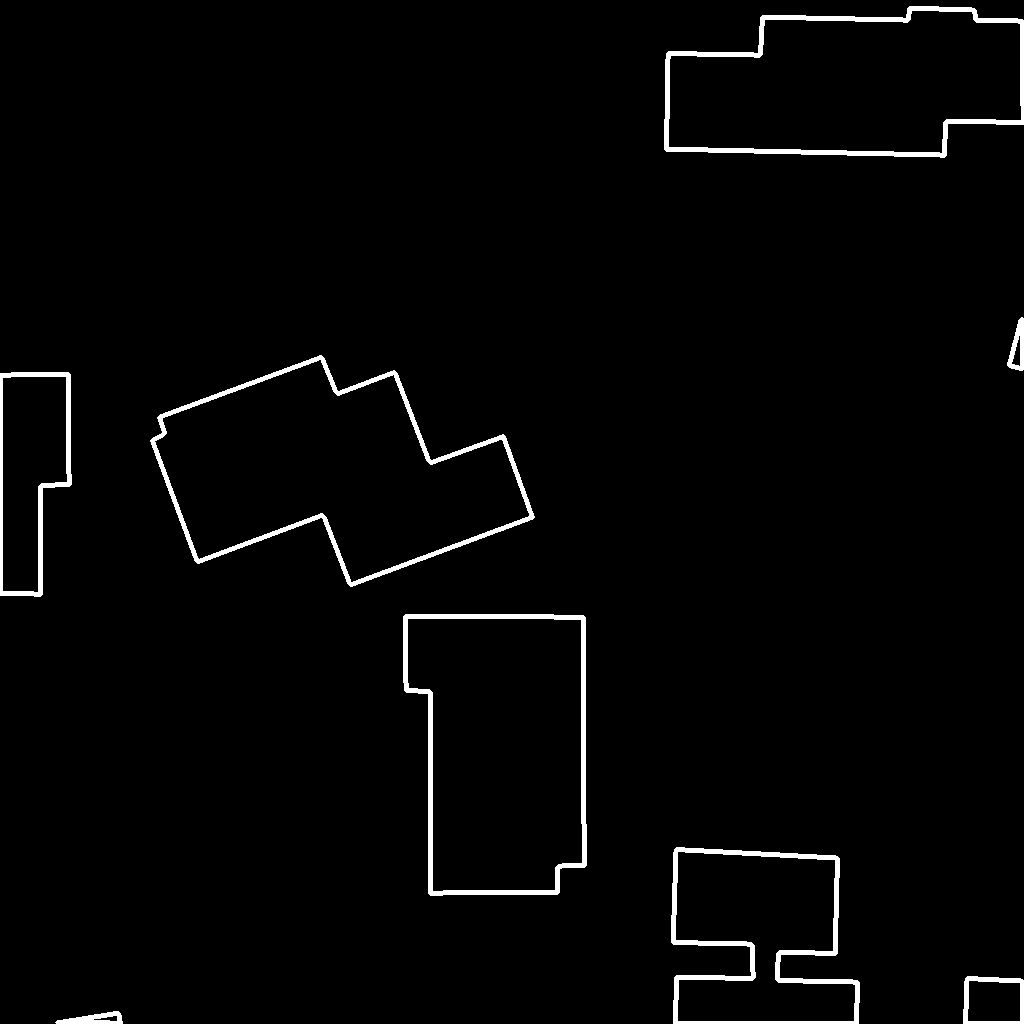building: (152, 357, 534, 586), (666, 8, 1024, 156), (405, 616, 585, 894), (673, 849, 859, 1024), (0, 374, 70, 595), (965, 978, 1024, 1024), (1009, 319, 1024, 370), (54, 1013, 122, 1024)
